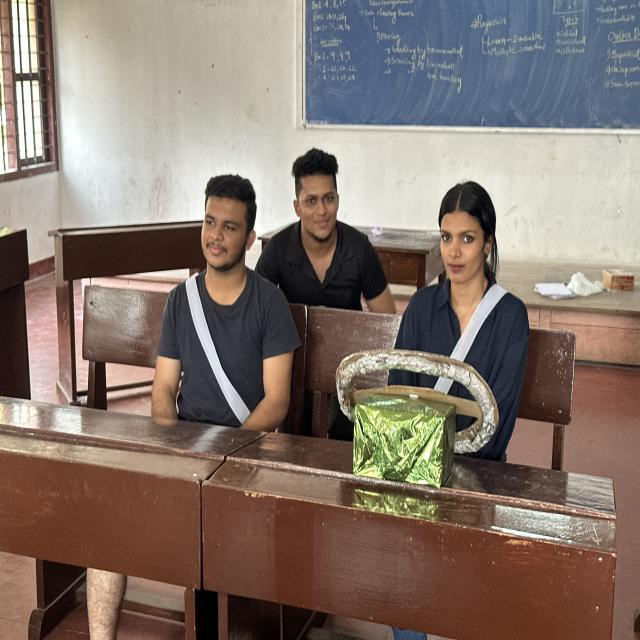seatbelt: (384, 286, 548, 451), (148, 269, 298, 440)
